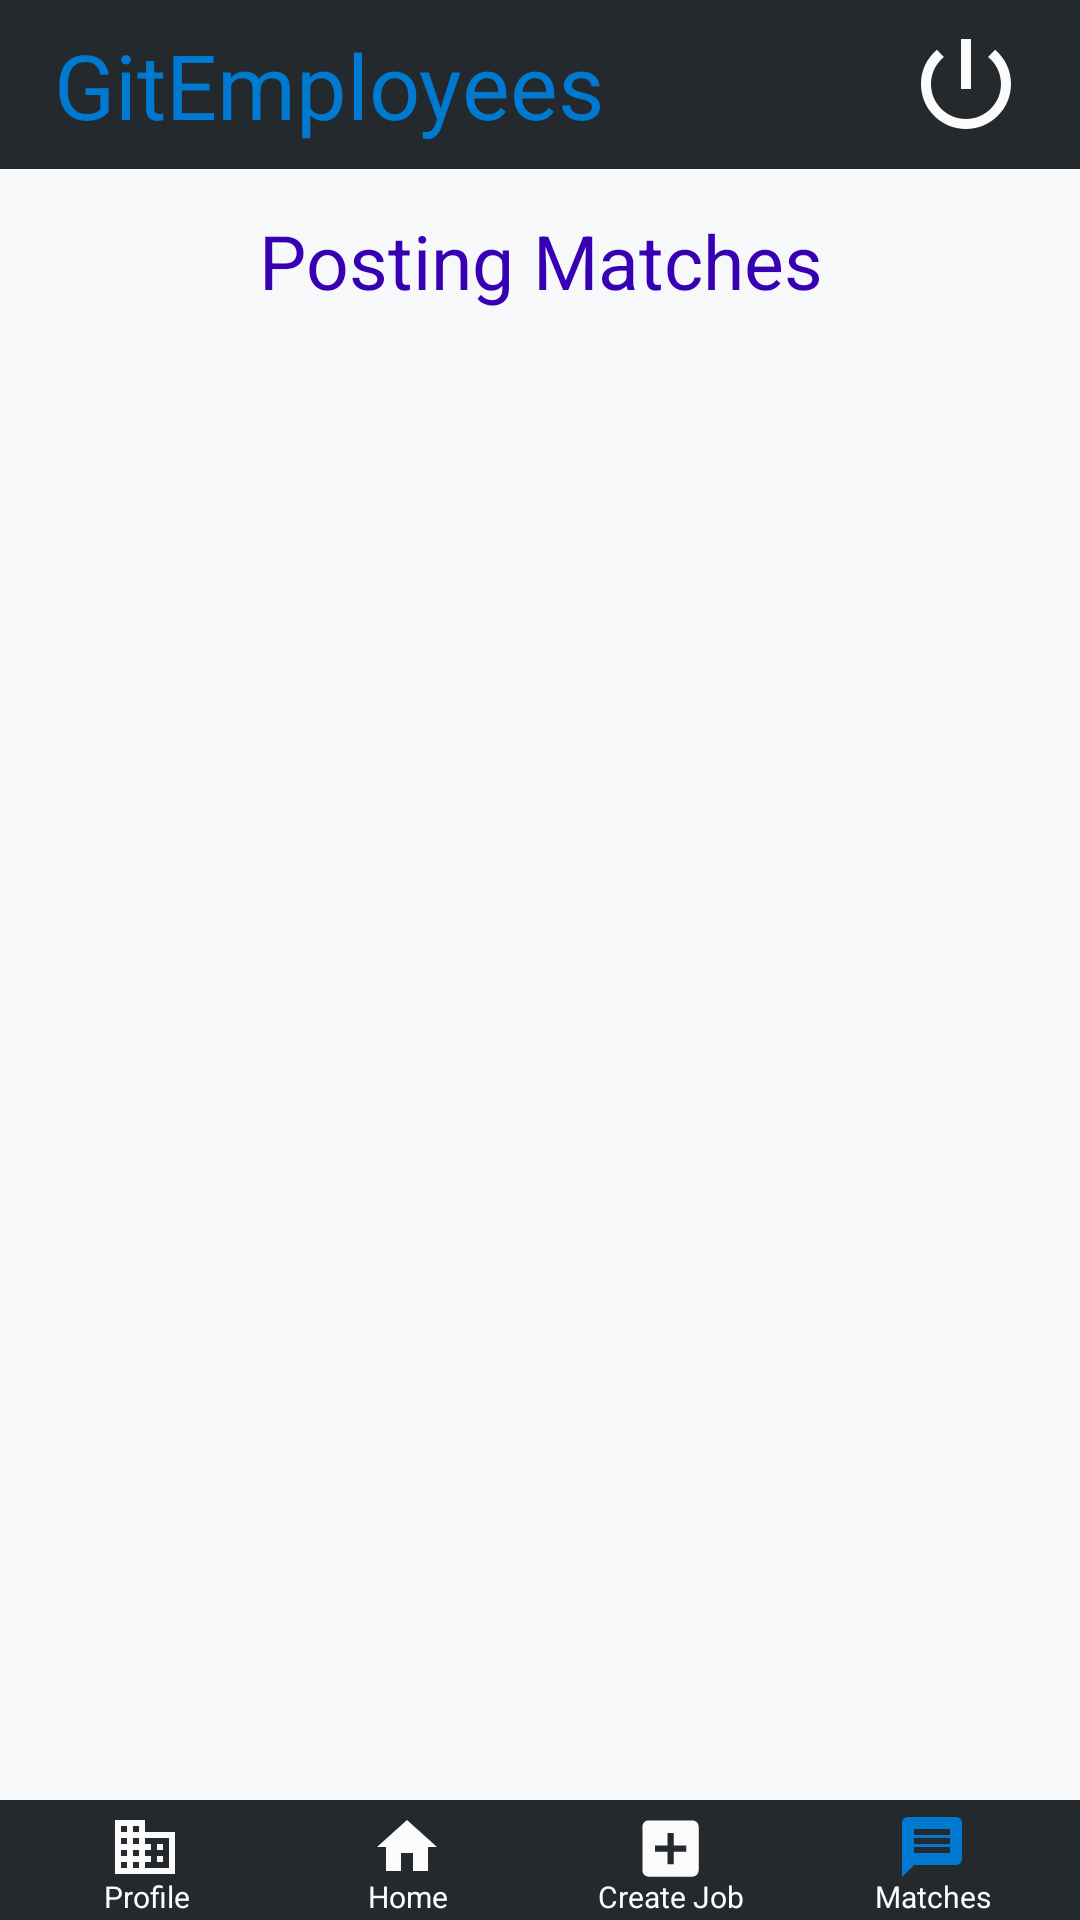

Where icons sit on this 1080 x 1920 app screen, as (x1, y1, x2, y2):
addwhite: (642, 1820, 699, 1877)
businesswhite: (115, 1820, 175, 1874)
messageblue: (902, 1817, 962, 1877)
powerwhite: (921, 39, 1011, 129)
